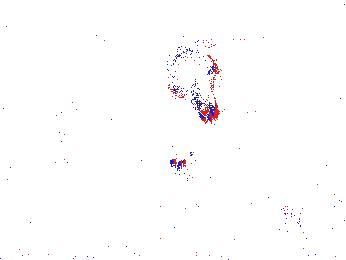flame jellyfish: (168, 150, 229, 220), (164, 48, 220, 122), (273, 172, 346, 228)
